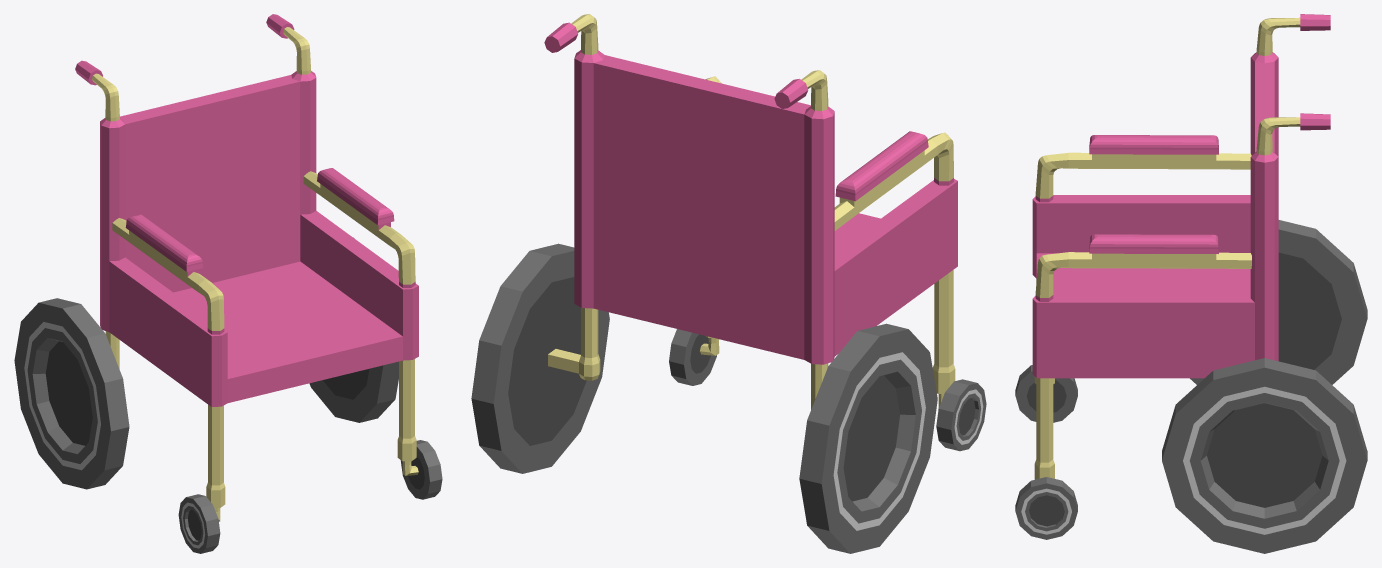
Rendered from wheelChair_modle2.fbx.
3 views of the same model, side by side, from view 1: azimuth 30°, elevation 25°; view 2: azimuth 150°, elevation 25°; view 3: azimuth 270°, elevation 25° (orthographic). The views are drawn at different scales.
Parts seen in each view (by area): view 1: wheelchair; view 2: wheelchair; view 3: wheelchair.
Boxes of the visible parts, x1,y1,x2,y2 form: wheelchair: (14, 14, 442, 553); wheelchair: (471, 14, 986, 553); wheelchair: (1015, 14, 1367, 553).
Bounding box in the file's own units: 2.57 × 3.29 × 2.53.
